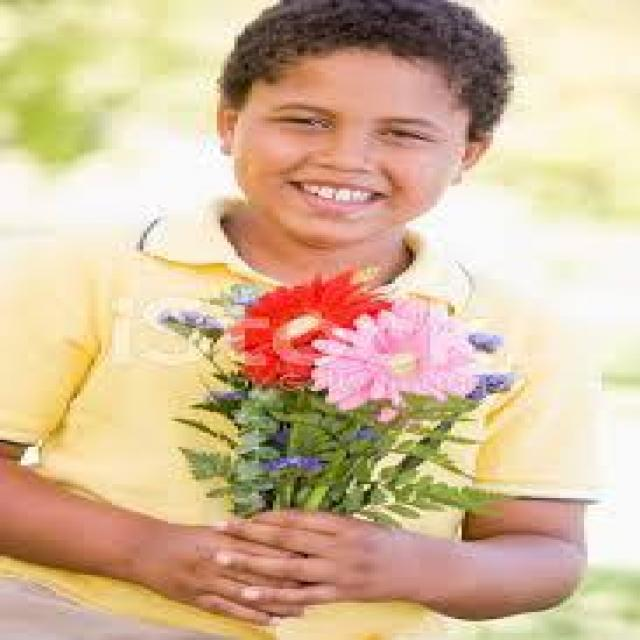organic waste: (241, 274, 402, 402), (314, 302, 476, 408)
